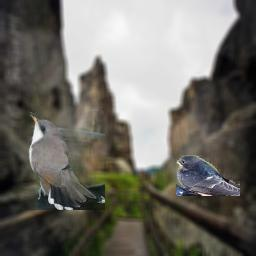Cuckoo: (26, 111, 105, 210)
Swallow: (176, 155, 240, 196)
